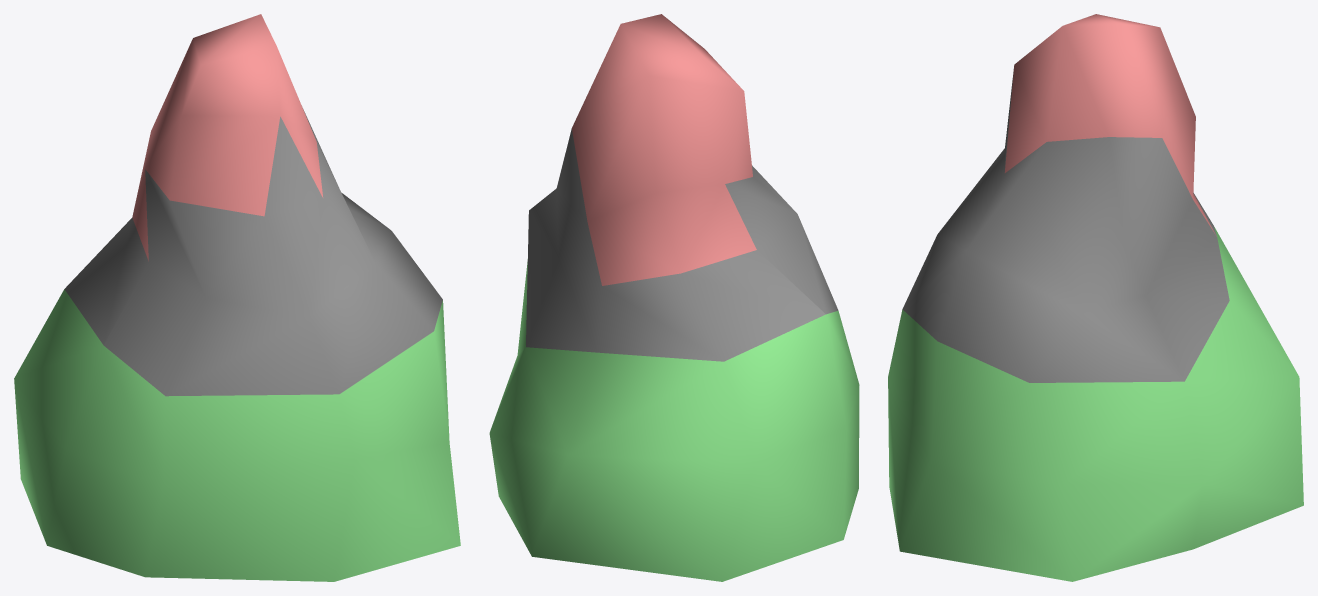
Rendered from O_DEF_F_obj5.gltf.
3 views of the same model, side by side, from view 1: azimuth 30°, elevation 25°; view 2: azimuth 150°, elevation 25°; view 3: azimuth 270°, elevation 25° (orthographic). The views are drawn at different scales.
Parts seen in each view (by area): view 1: O_DEF_F_obj5; view 2: O_DEF_F_obj5; view 3: O_DEF_F_obj5.
Boxes of the visible parts, left/top/right/bottom form: O_DEF_F_obj5: left=14, top=14, right=460, bottom=581; O_DEF_F_obj5: left=489, top=14, right=859, bottom=581; O_DEF_F_obj5: left=888, top=14, right=1303, bottom=581.
Bounding box in the file's own units: 7.35 × 8.94 × 6.99.
